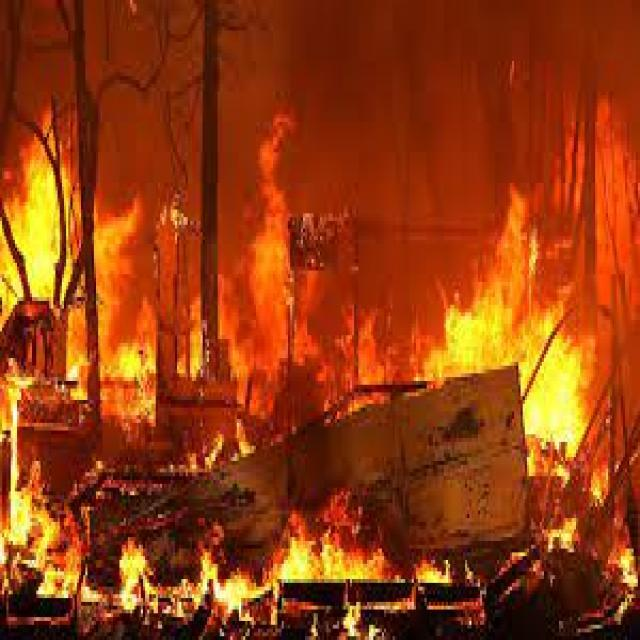Fire: (13, 454, 570, 640), (428, 290, 594, 422), (7, 142, 90, 322)
